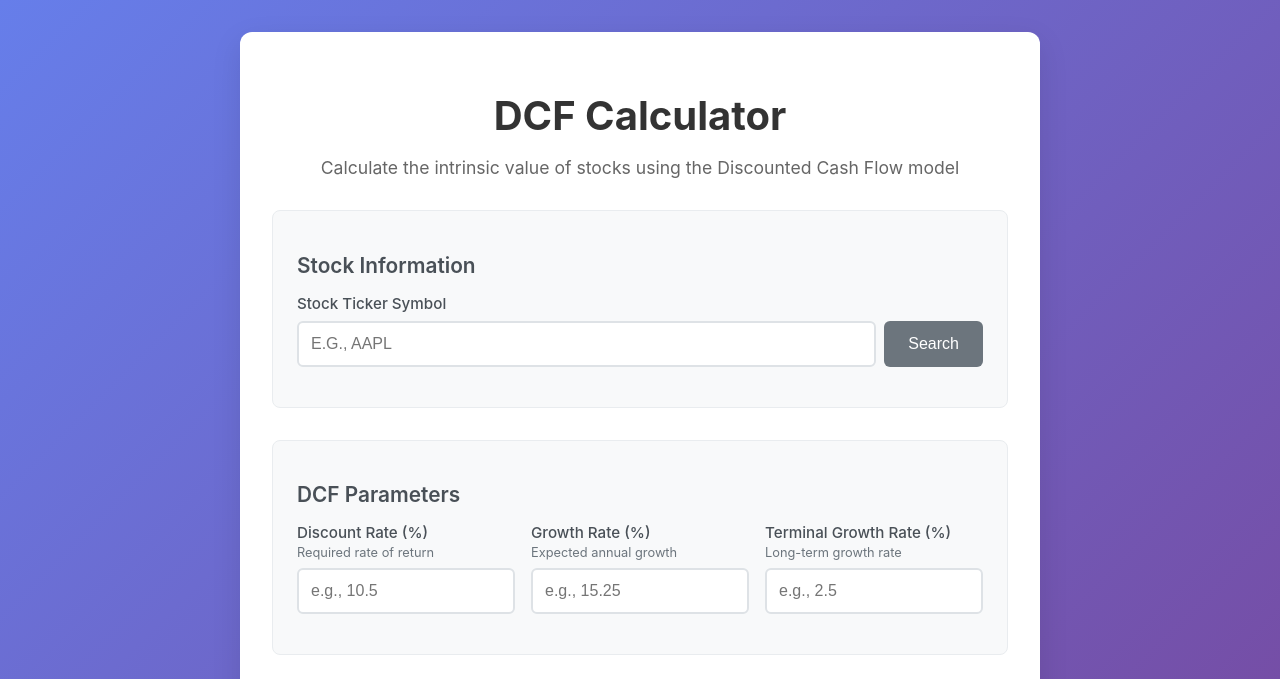
Test: DCFCalculator › Form Validation › clears error when user starts typing in field
Step 1. Type "AAPL" into the field labelled "Stock Ticker Symbol" → {"x": 587, "y": 344}, box [297,321,876,367]
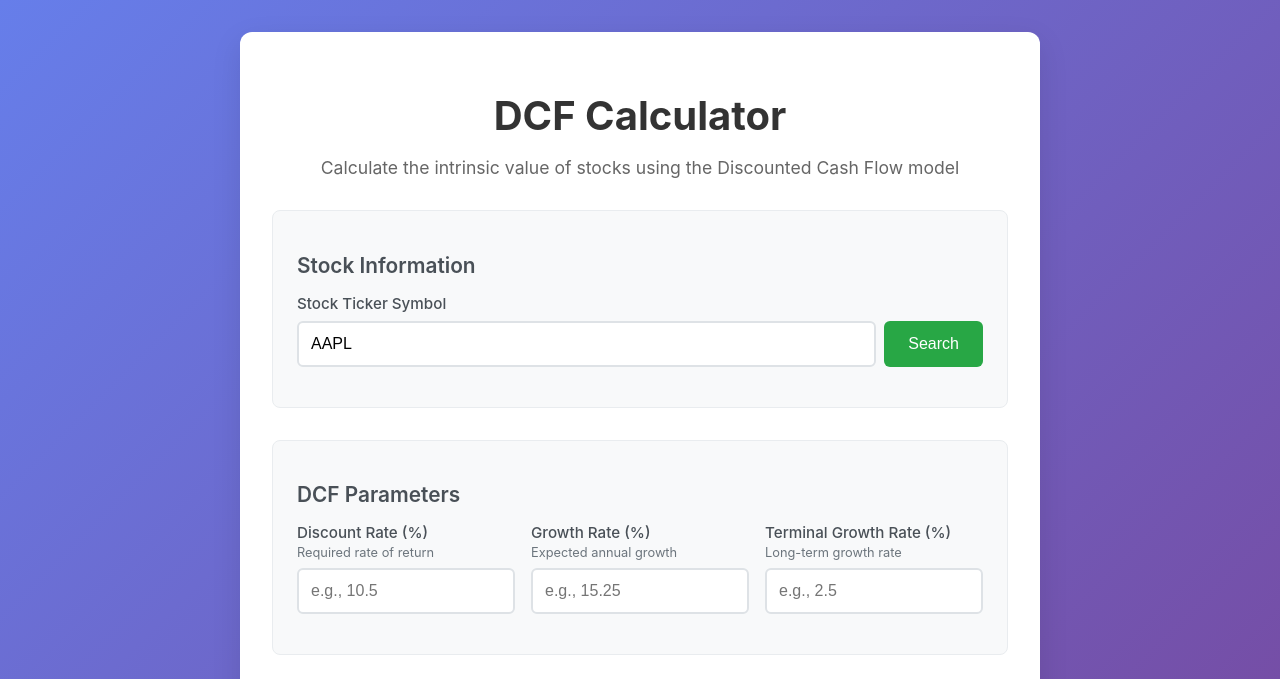
Step 2. Click the button "Search" → {"x": 934, "y": 344}, box [884,321,983,367]
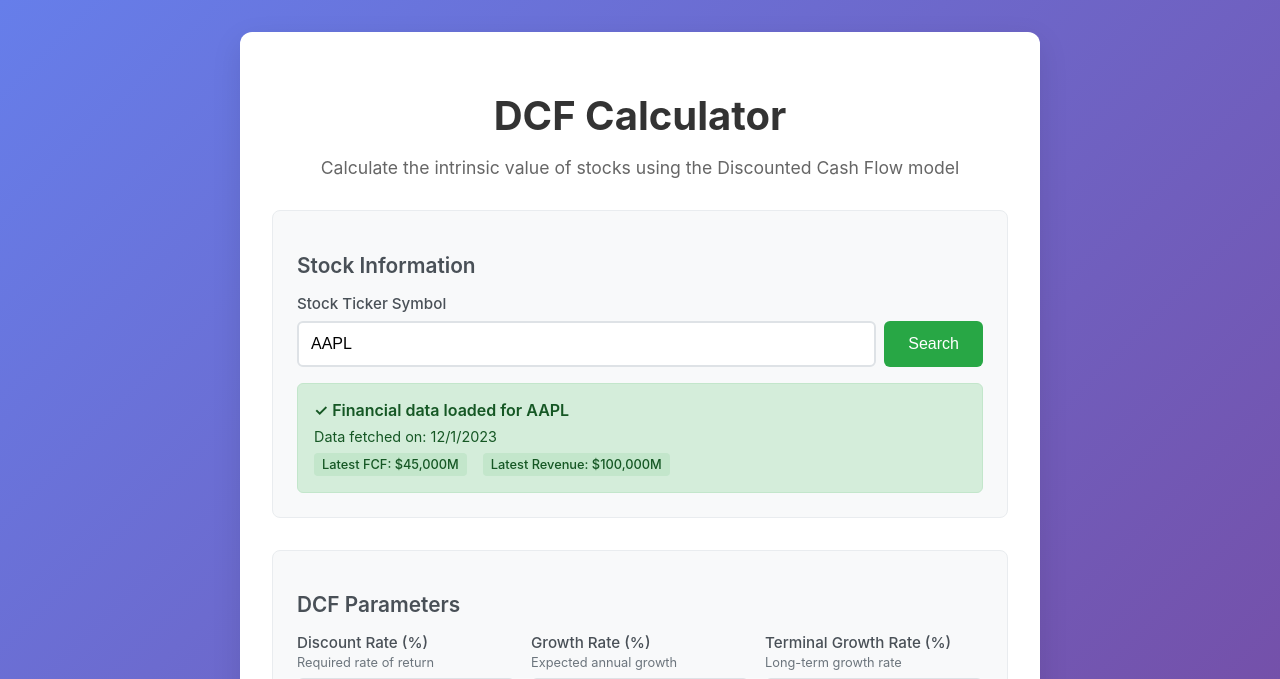
Now the heading "✓ Financial data loaded for AAPL" is shown, box [314,400,569,420]
// Clear ticker to trigger validation error
Step 3. Clear the field labelled "Stock Ticker Symbol" → {"x": 587, "y": 344}, box [297,321,876,367]
(page scrolled)
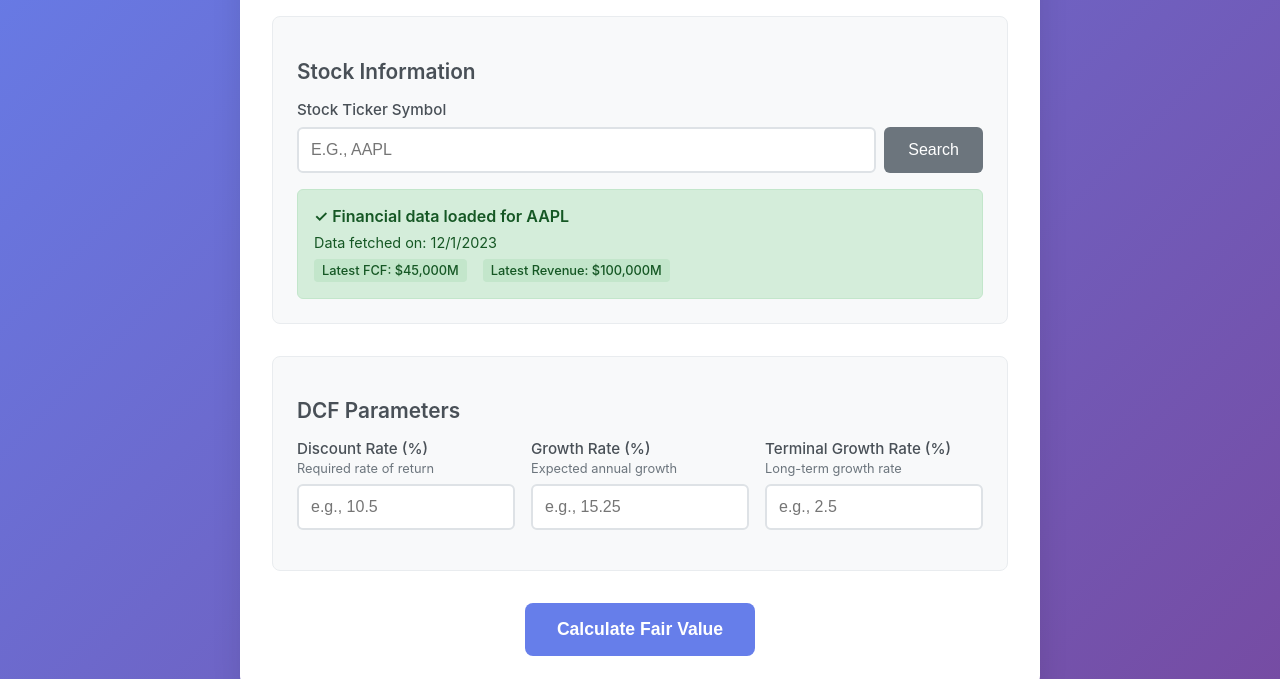
Step 4. Click the button "Calculate Fair Value" → {"x": 640, "y": 630}, box [525,603,755,656]
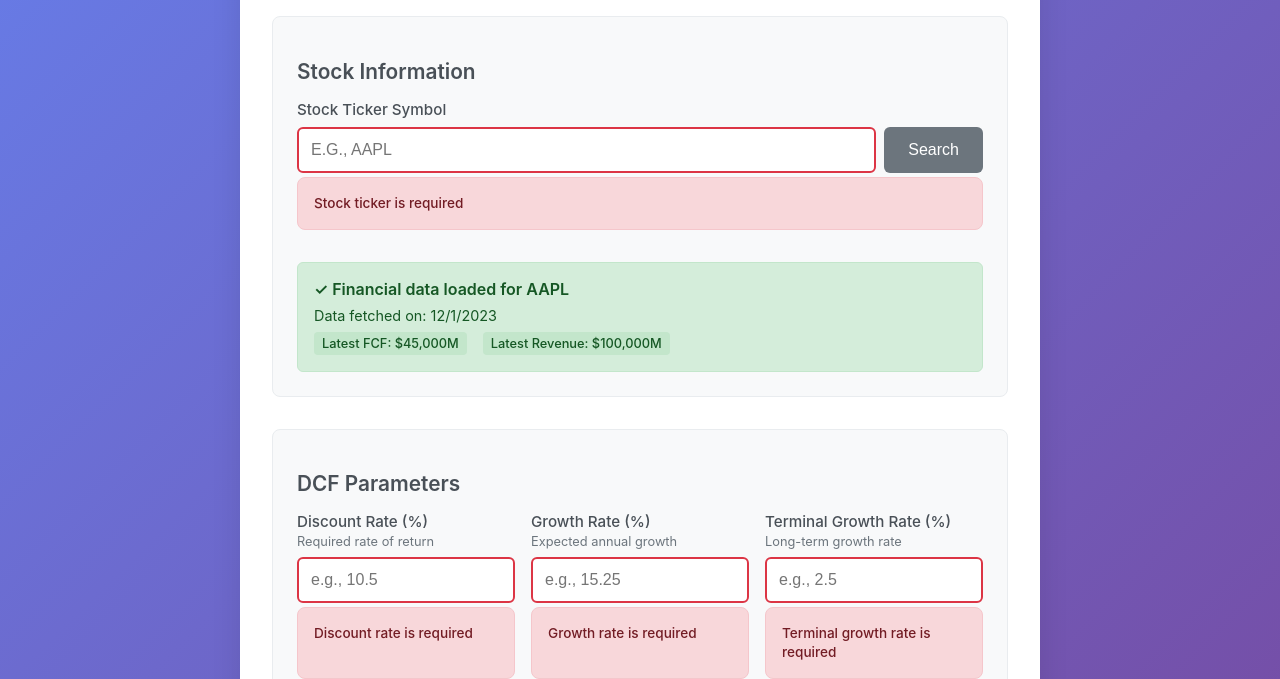
Now the text "Stock ticker is required" is shown, box [297,177,983,230]
// Start typing to clear error
Step 5. Type "A" into the field labelled "Stock Ticker Symbol" → {"x": 587, "y": 150}, box [297,127,876,173]
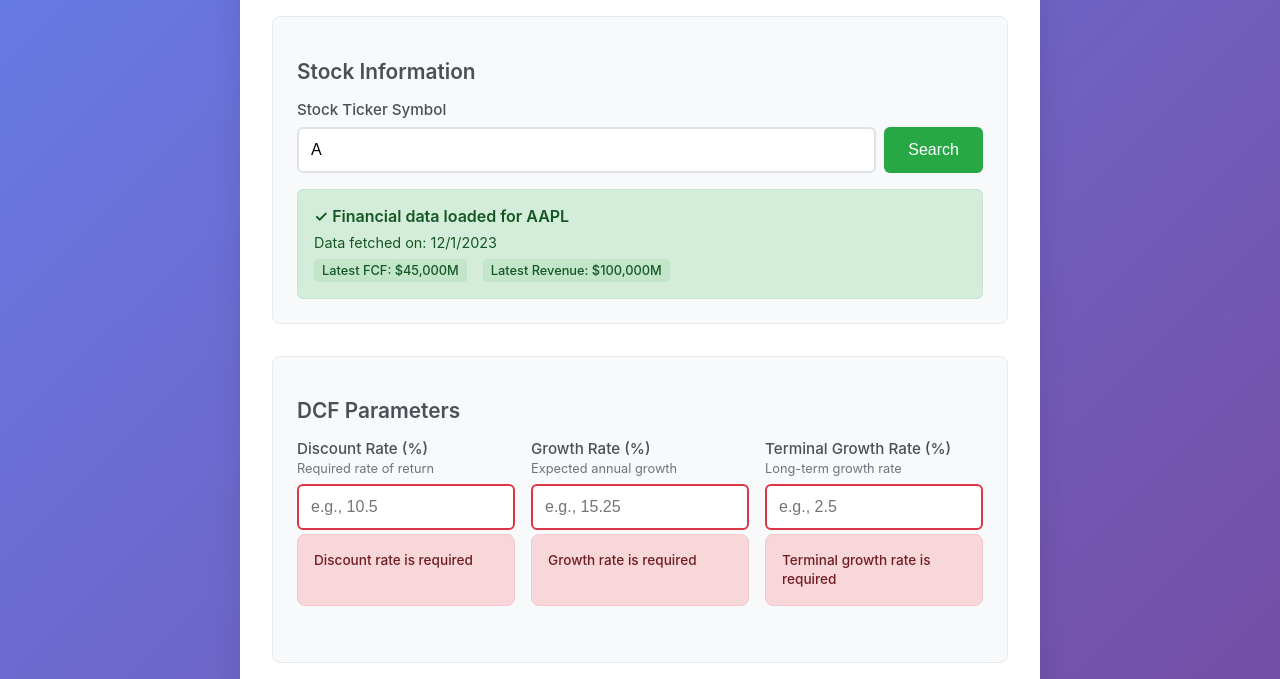
Now the text "Stock ticker is required" is gone
